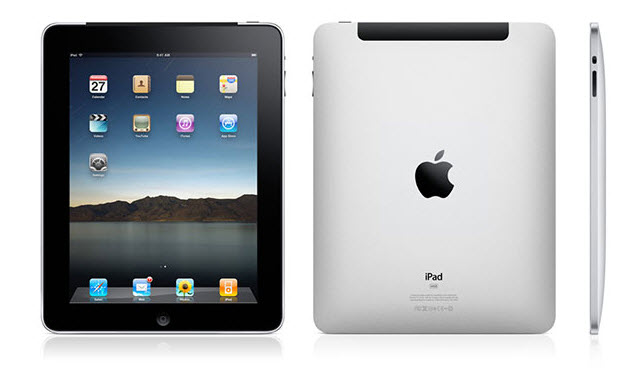Apple: (405, 139, 467, 211), (416, 261, 455, 287)
